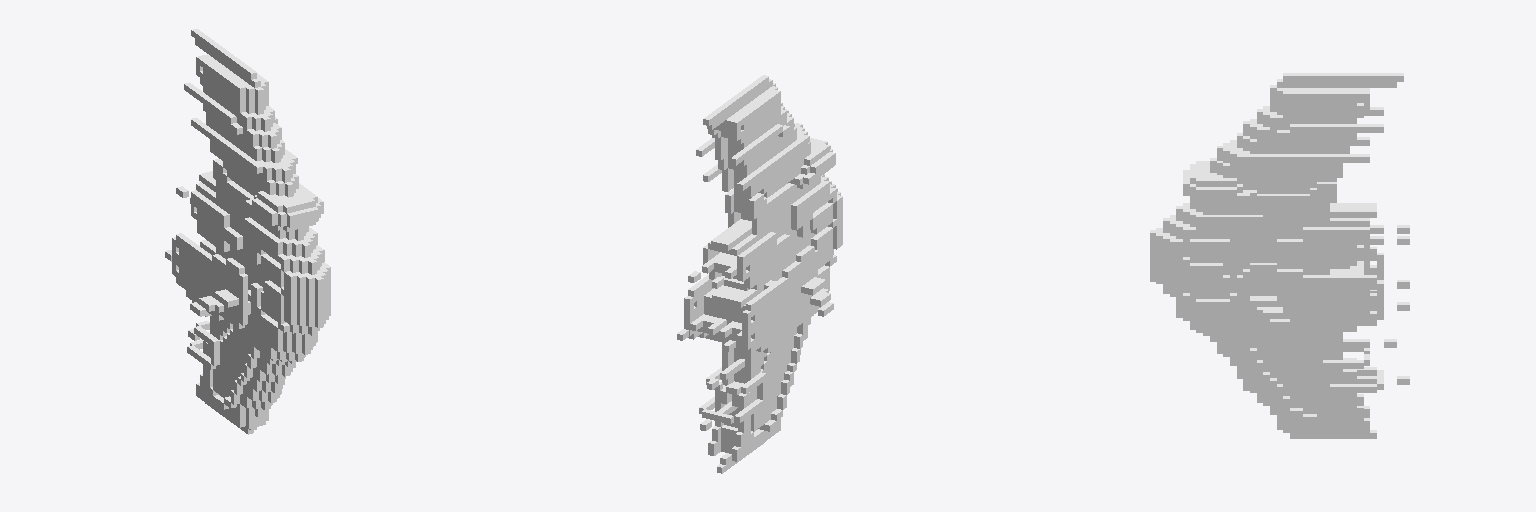
The model's file is MeteorSlicer.obj.
The picture shows the model from 3 angles: view 1: azimuth 30°, elevation 25°; view 2: azimuth 150°, elevation 25°; view 3: azimuth 270°, elevation 25°; orthographic projection.
Visible parts, largest first — view 1: object 1; view 2: object 1; view 3: object 1.
Part boxes in pixels (x1,y1,x2,y2): object 1: (165, 29, 330, 434); object 1: (677, 75, 842, 473); object 1: (1150, 73, 1409, 438).
Size of the model in its own units: 2.1 by 6 by 3.9.